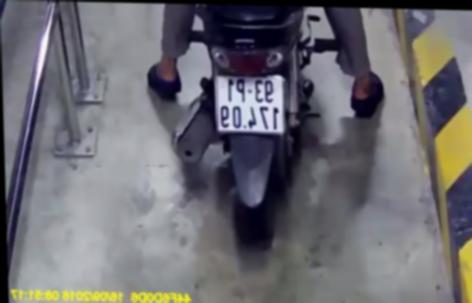License_Plate: (205, 72, 293, 136)
